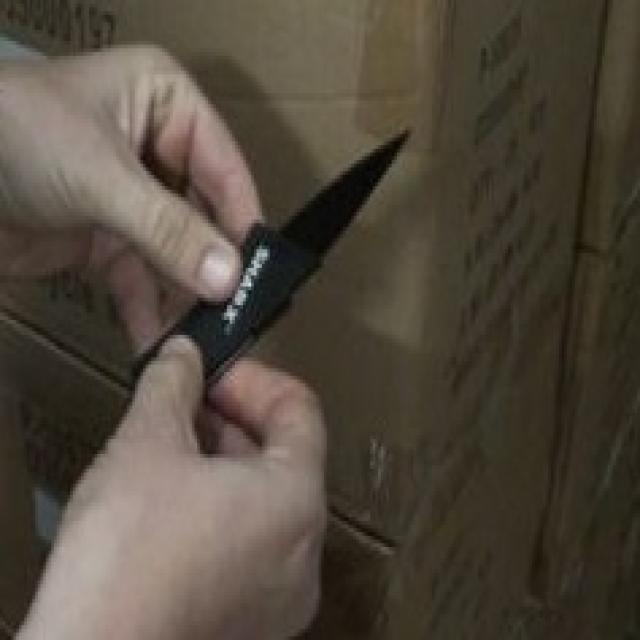knife: (151, 123, 427, 385)
